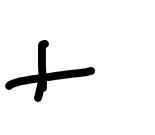plus: (5, 39, 96, 101)
